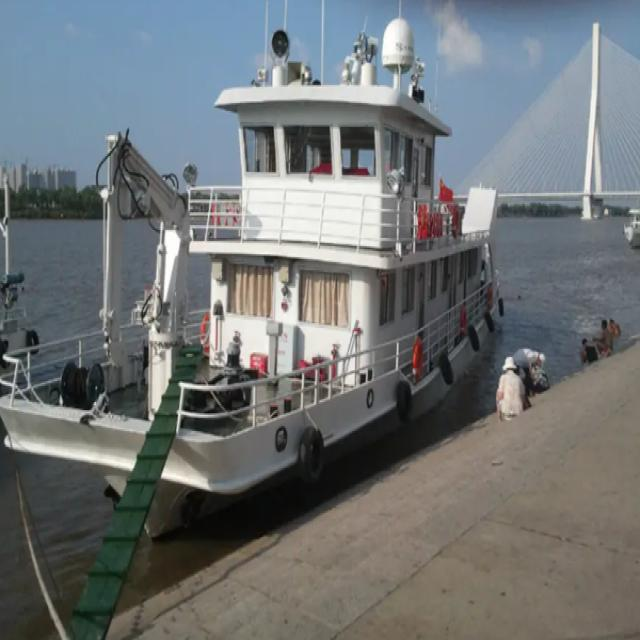houseboat: (0, 31, 509, 500)
